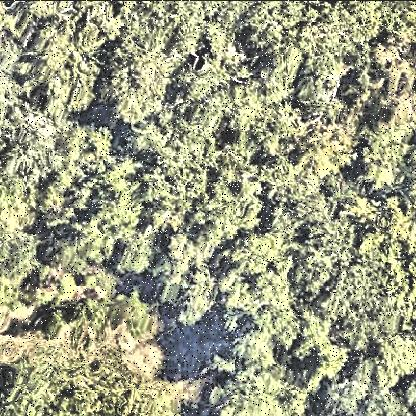tree-top: (43, 137, 139, 265), (293, 211, 391, 322), (207, 329, 310, 416), (97, 22, 183, 126), (24, 24, 105, 114), (214, 233, 290, 317), (153, 236, 217, 328), (345, 118, 416, 198), (193, 166, 267, 238), (9, 354, 83, 416), (323, 367, 414, 416), (230, 1, 306, 57)
